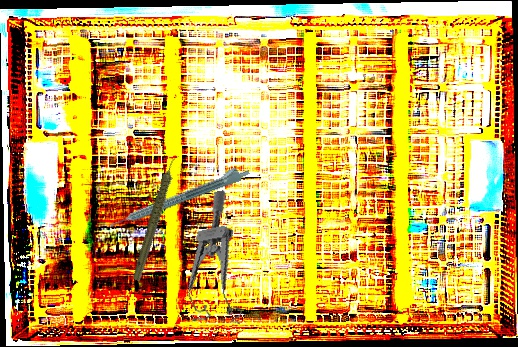Handpiece: (108, 153, 206, 283), (106, 161, 251, 231)
Speculum: (167, 189, 253, 334)
